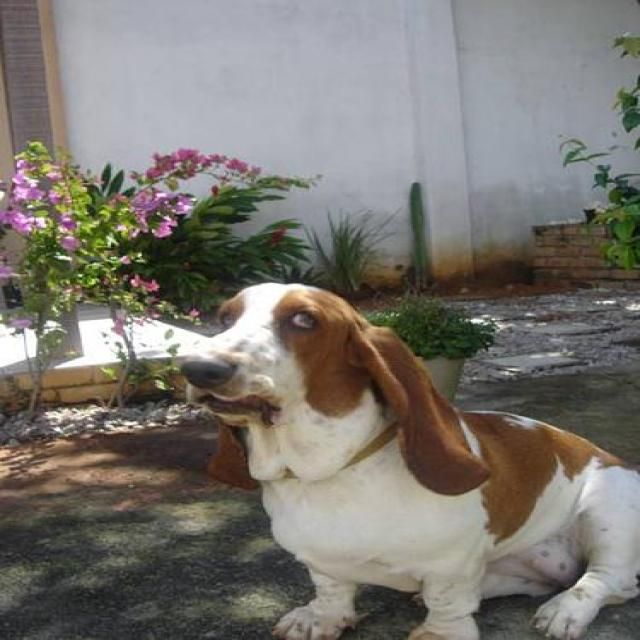basset: (179, 282, 637, 638)
